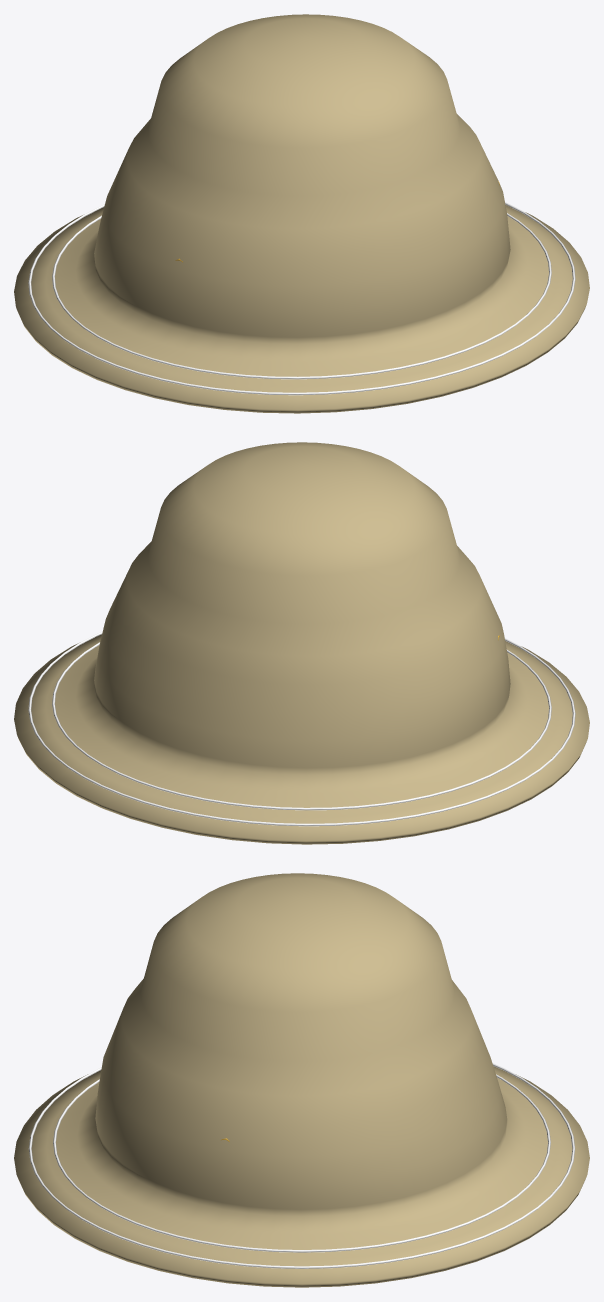
Rendered from bucket_hat.glb.
3 renders of one model, top to bottom at view 1: azimuth 30°, elevation 25°; view 2: azimuth 150°, elevation 25°; view 3: azimuth 270°, elevation 25°, orthographic. The views are drawn at different scales.
Visible parts, largest first — view 1: bucket_hat; view 2: bucket_hat; view 3: bucket_hat.
Boxes of the visible parts, left/top/right/bottom form: bucket_hat: left=14, top=14, right=589, bottom=413; bucket_hat: left=14, top=442, right=589, bottom=844; bucket_hat: left=14, top=873, right=589, bottom=1287.
Bounding box in the file's own units: 0.3672 × 0.1802 × 0.3556.
